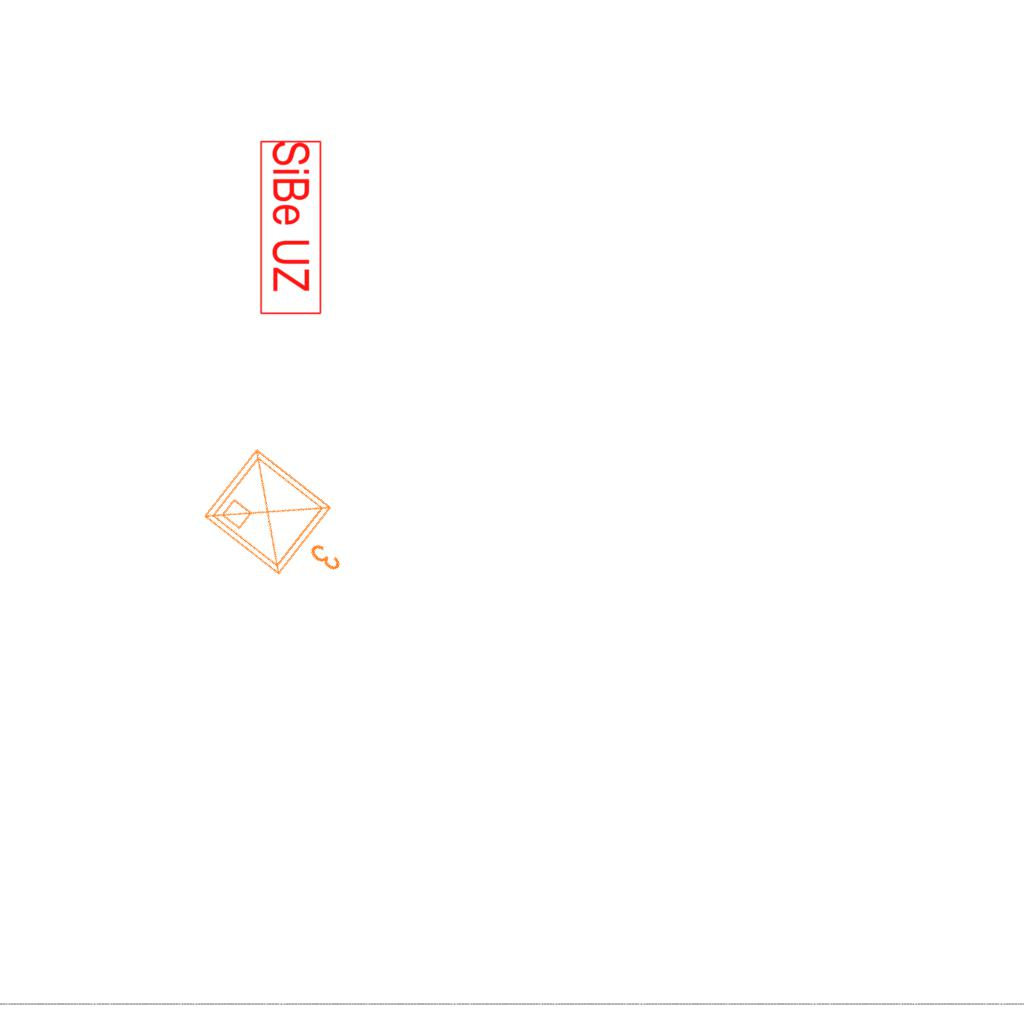Einbaudownlights_LED_Konferenzraeume: (193, 435, 377, 611)
Zentrale_Sicherheitsbeleuchtung: (258, 139, 323, 317)
